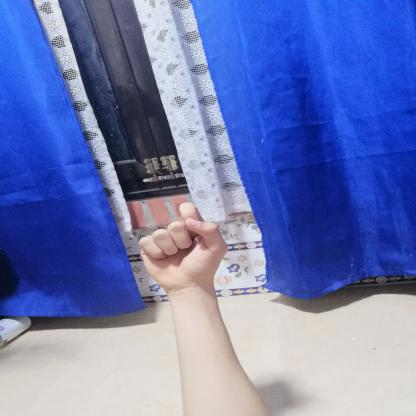FAA: (126, 196, 240, 298)
